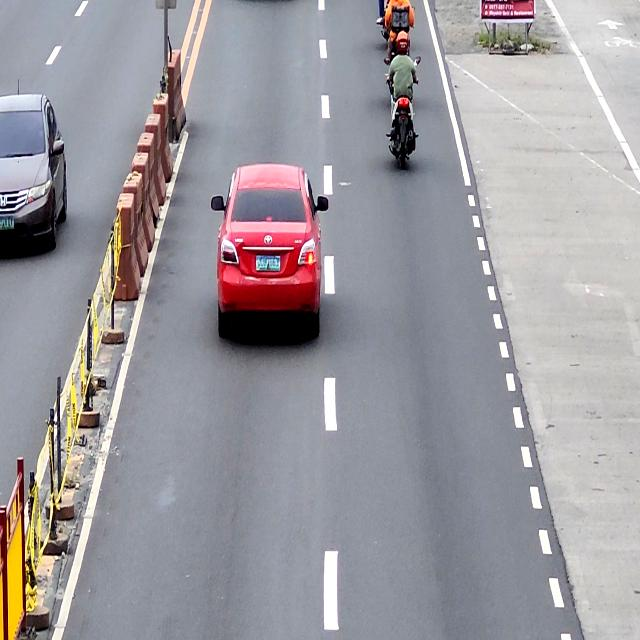Car: (210, 165, 328, 339)
License-Plate: (256, 256, 281, 270)
Motorcycle: (385, 54, 421, 173), (385, 4, 414, 65)
